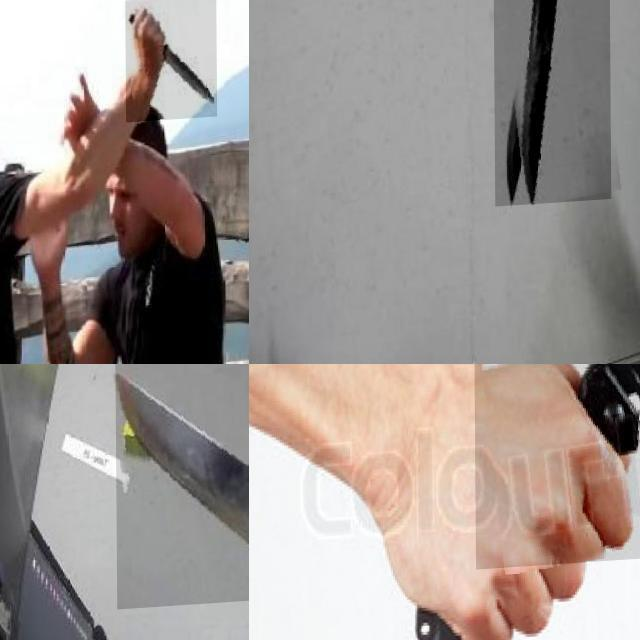-: (473, 364, 640, 573), (114, 364, 249, 612), (492, 0, 610, 211), (126, 1, 217, 128)
